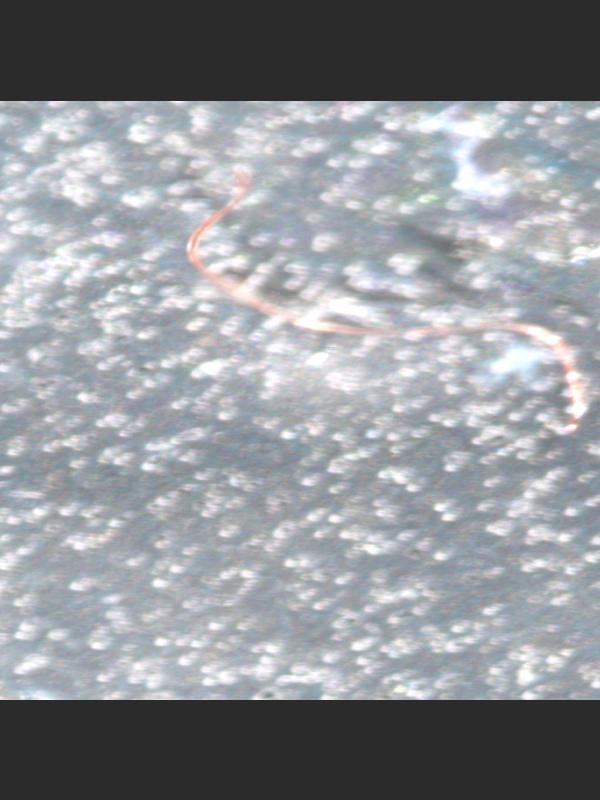microplastic: (0, 101, 600, 698), (183, 163, 593, 433)
